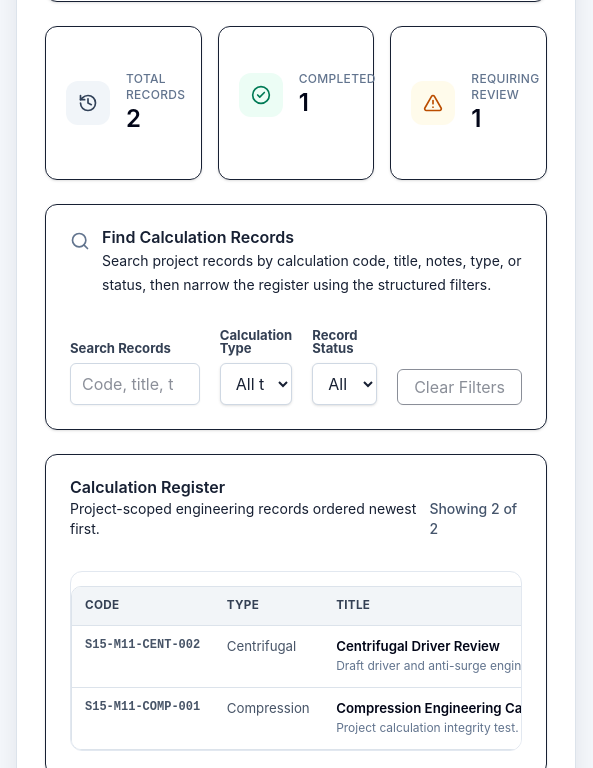
Test: calculation records workspace › filters calculation history by type, status, and search text
This screenshot has width=593, height=768.
(page scrolled)
Expected: the text "S15-M11-COMP-001" is shown, [72, 688, 214, 749]
Expected: the text "S15-M11-CENT-002" is shown, [72, 626, 214, 688]
Select "Centrifugal" in the dropdown labelled "Calculation Type" at (256, 384), box [220, 363, 292, 405]
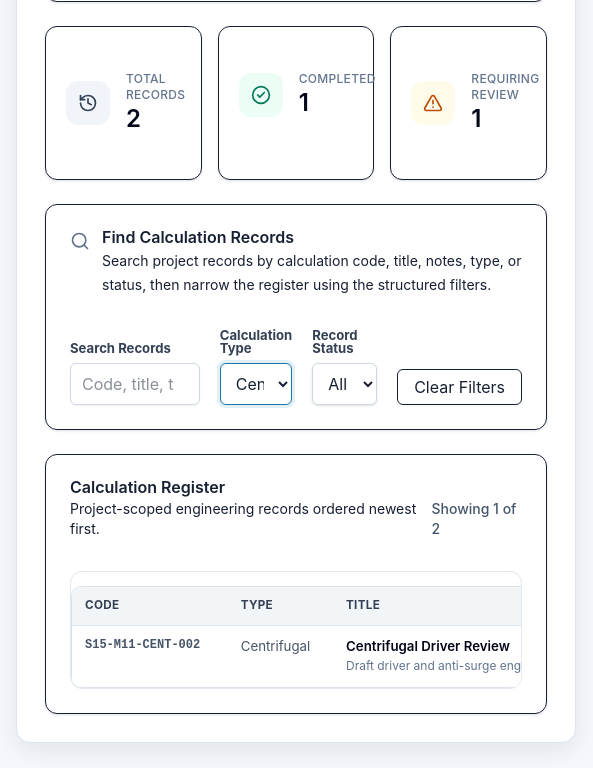
Expected: the text "S15-M11-CENT-002" is shown, [72, 626, 228, 687]
Result: the text "S15-M11-COMP-001" is gone
Select "All types" in the dropdown labelled "Calculation Type" at (256, 384), box [220, 363, 292, 405]
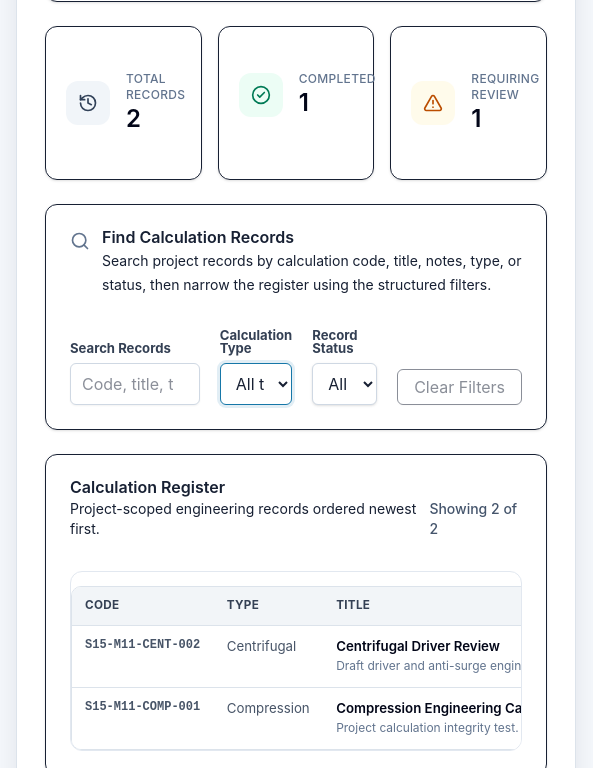
Select "Completed" in the dropdown labelled "Record Status" at (345, 384), box [312, 363, 377, 405]
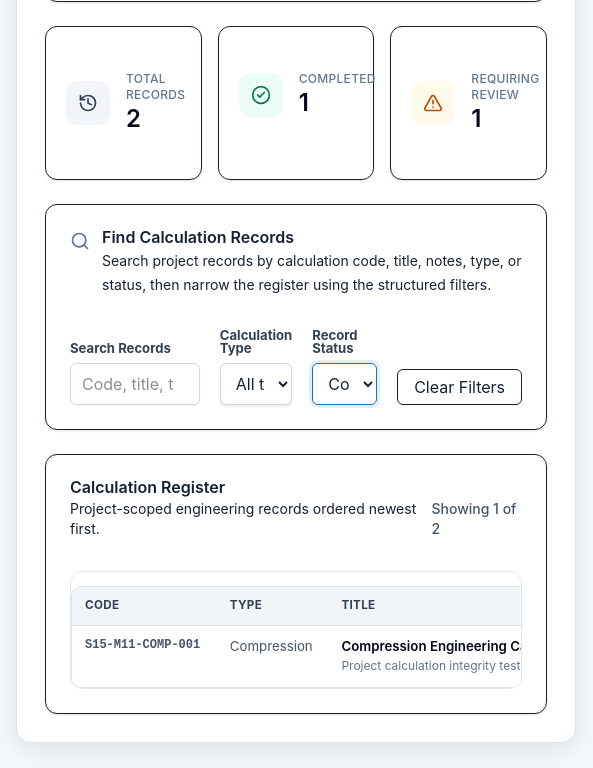
Result: the text "S15-M11-COMP-001" is shown at [72, 626, 217, 687]
Result: the text "S15-M11-CENT-002" is gone
Select "All statuses" in the dropdown labelled "Record Status" at (345, 384), box [312, 363, 377, 405]
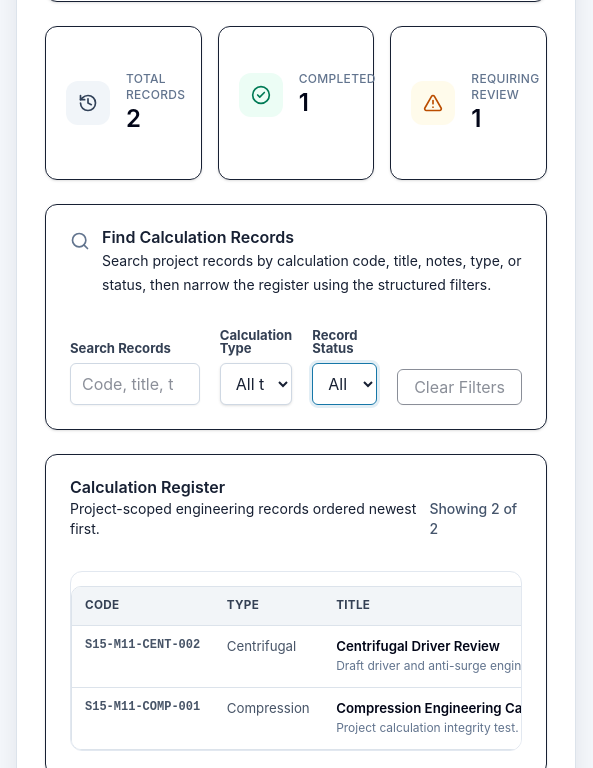
Type "driver review" into the search field labelled "Search Records" at (135, 384), box [70, 363, 200, 405]
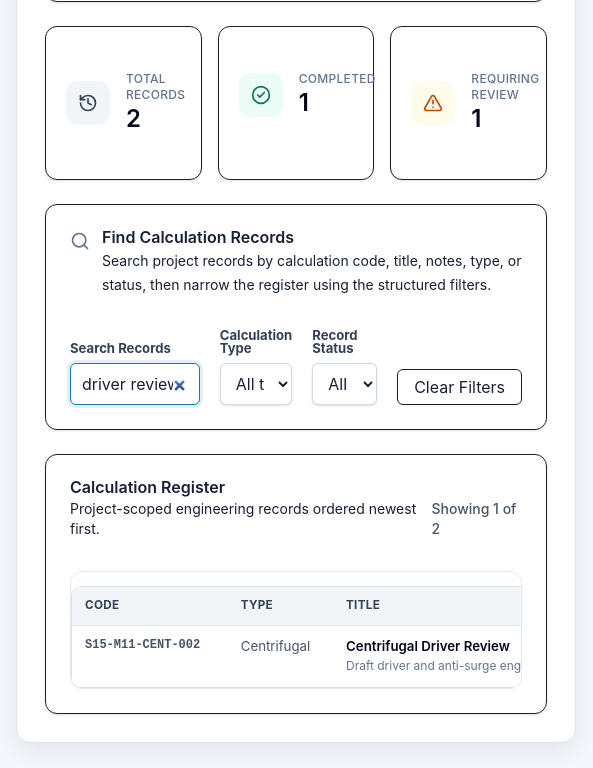
Result: the text "S15-M11-CENT-002" is shown at [72, 626, 228, 687]
Result: the text "S15-M11-COMP-001" is gone
